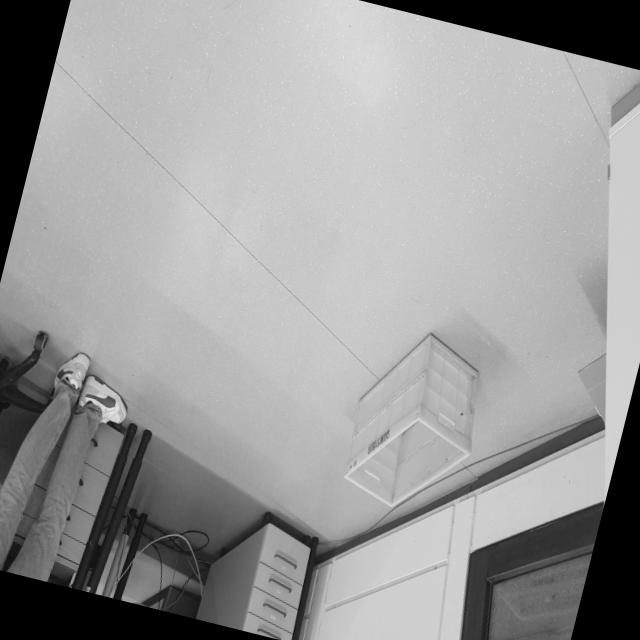box: (330, 300, 507, 531)
